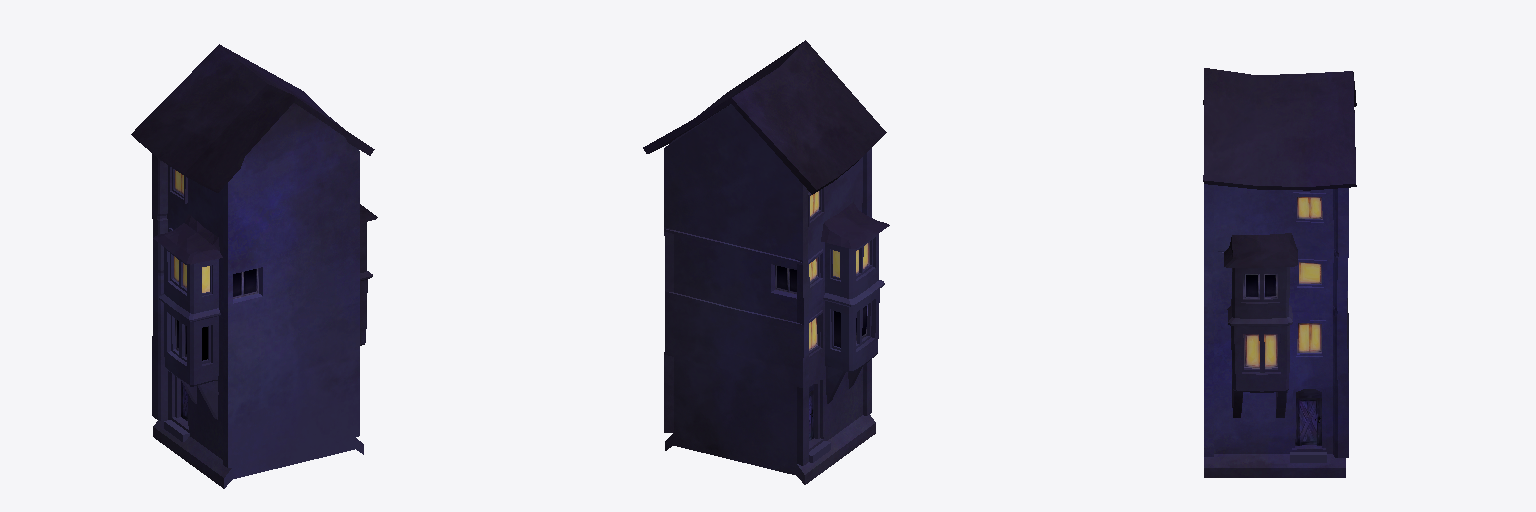
3 views of the same model, side by side, from view 1: azimuth 30°, elevation 25°; view 2: azimuth 150°, elevation 25°; view 3: azimuth 270°, elevation 25° (orthographic).
Visible parts, largest first — view 1: H4; view 2: H4; view 3: H4.
Boxes of the visible parts, box(x1,y1,x2,y2) form: H4: box(131, 44, 377, 488); H4: box(643, 40, 889, 484); H4: box(1203, 68, 1356, 477).
Size of the model in its own units: 16.31 by 30.64 by 11.29.
3 materials, 3 textured.